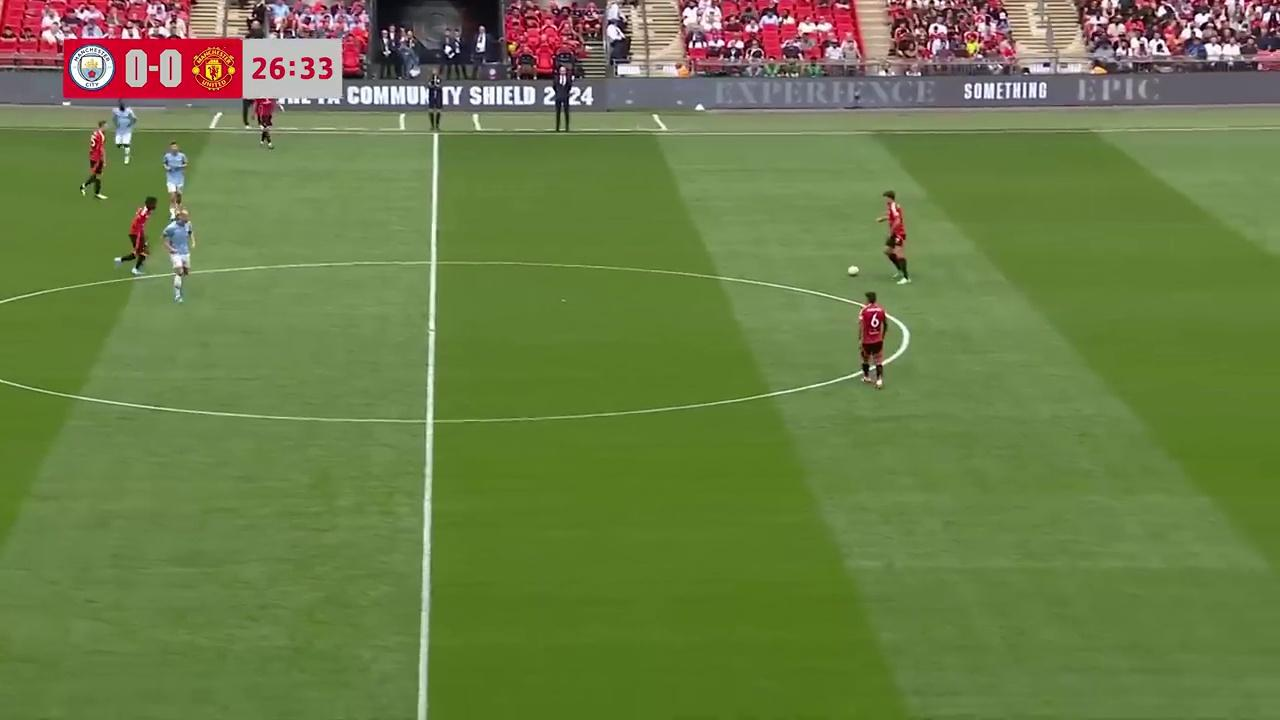ball: (844, 260, 860, 278)
player: (161, 204, 196, 303), (114, 196, 156, 275), (876, 190, 911, 284), (855, 291, 888, 387), (79, 120, 108, 201), (109, 101, 138, 166), (162, 140, 189, 209), (255, 94, 275, 149)
